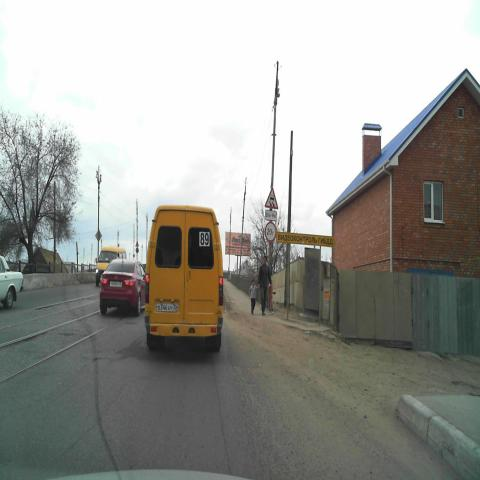1_15: (264, 188, 278, 209)
3_11: (264, 222, 276, 241)
8_5_4: (265, 210, 277, 221)
